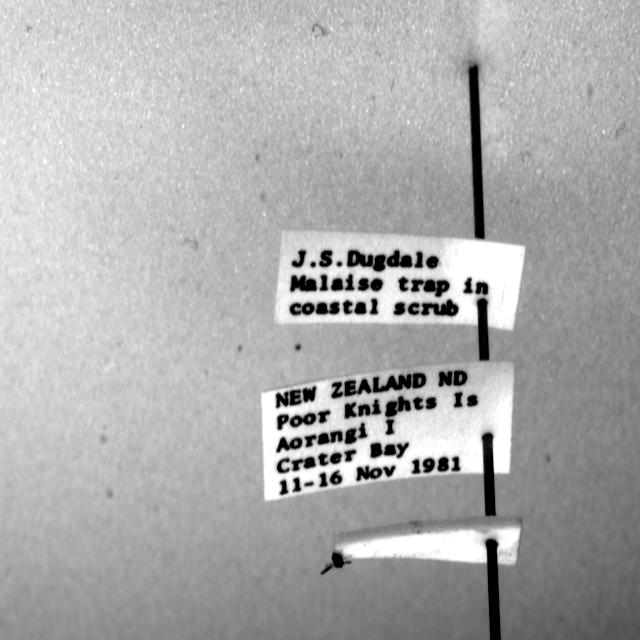typed_label: (261, 362, 514, 501), (275, 231, 525, 330)
